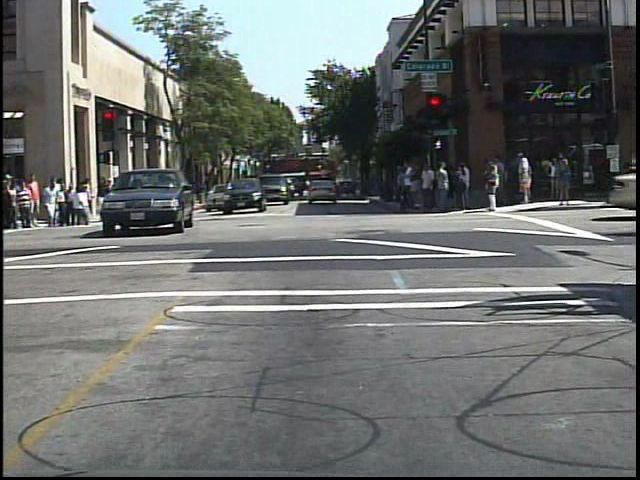person: (511, 148, 536, 206), (41, 175, 63, 231), (13, 179, 35, 233)
